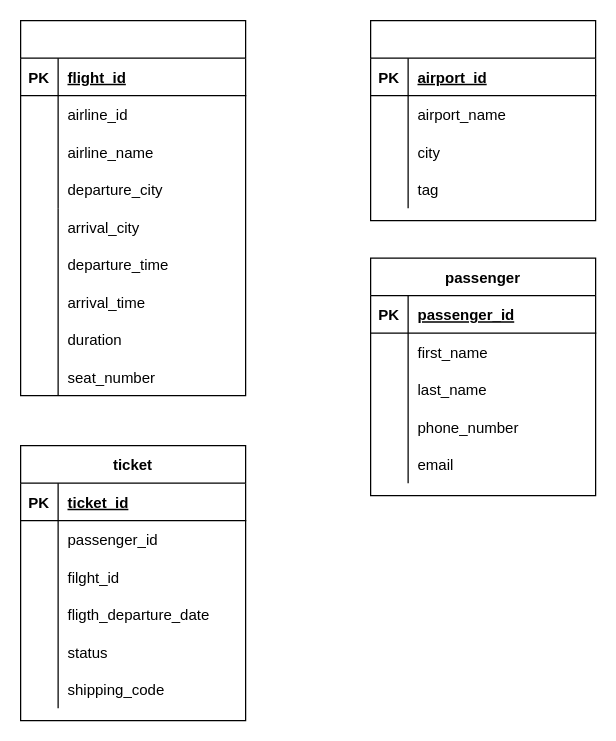
This 616x741 diagram has some shape labels left out. The shapes that lost their labels are listed below. From the top down, each one's box as (x1, y1, x2, y2) in pixels, then its label:
(369, 19, 596, 221): airports
(19, 19, 246, 396): flights
